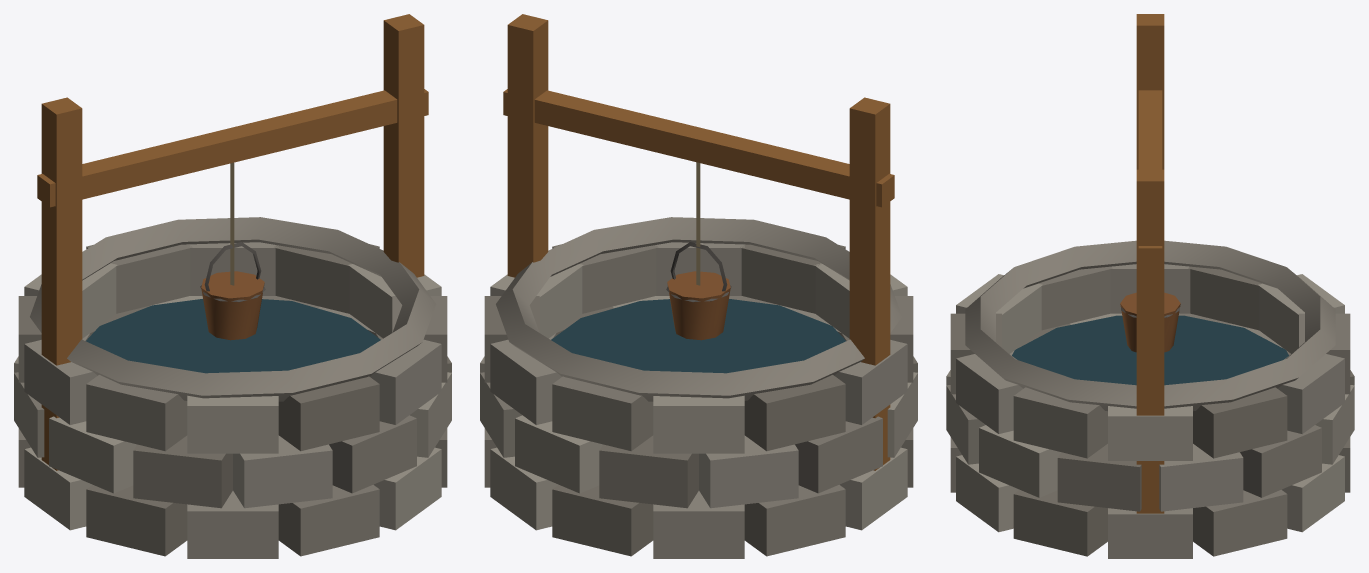
Rendered from well.glb.
3 views of the same model, side by side, from view 1: azimuth 30°, elevation 25°; view 2: azimuth 150°, elevation 25°; view 3: azimuth 270°, elevation 25° (orthographic). The views are drawn at different scales.
Parts seen in each view (by area): view 1: building-well; view 2: building-well; view 3: building-well.
Part boxes in pixels (box(x1,y1,x2,y2)): building-well: box(14, 14, 451, 558); building-well: box(480, 14, 917, 558); building-well: box(946, 14, 1354, 558).
Size of the model in its own units: 2.06 by 2.1 by 2.06.
